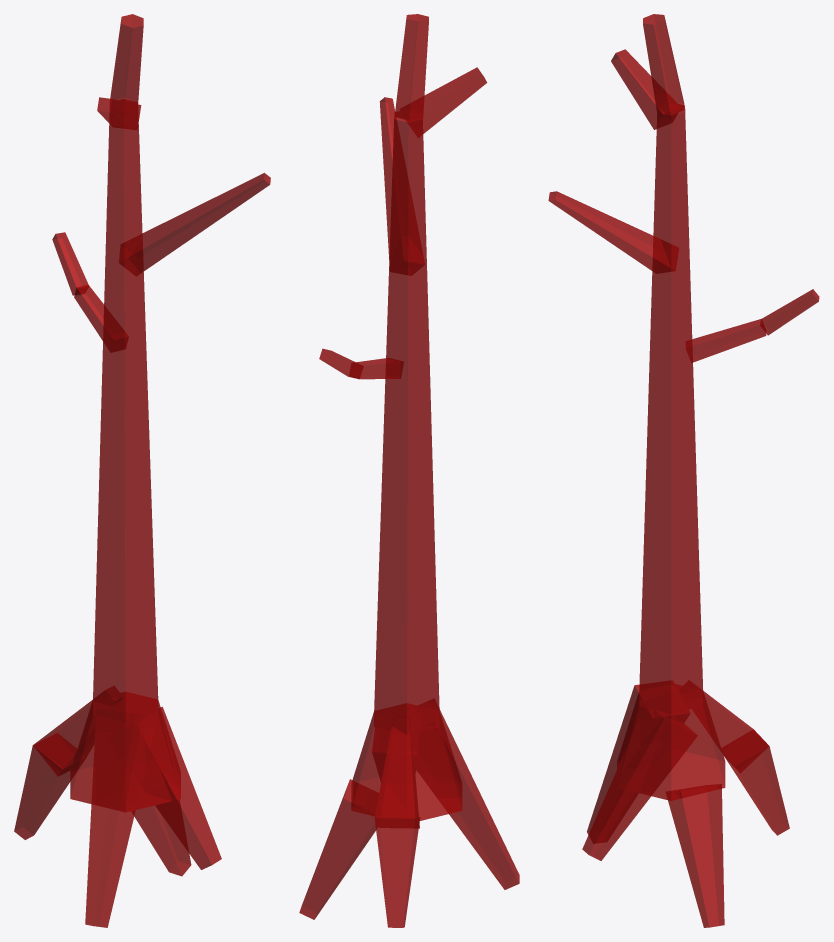
File: SM_Env_Tree_Birch_01_Collision.fbx
3 views of the same model, side by side, from view 1: azimuth 30°, elevation 25°; view 2: azimuth 150°, elevation 25°; view 3: azimuth 270°, elevation 25° (orthographic). The views are drawn at different scales.
Visible parts, largest first — view 1: SM_Env_Tree_Birch_01_Collision; view 2: SM_Env_Tree_Birch_01_Collision; view 3: SM_Env_Tree_Birch_01_Collision.
Boxes of the visible parts, x1=… form: SM_Env_Tree_Birch_01_Collision: x1=14, y1=14, x2=270, y2=927; SM_Env_Tree_Birch_01_Collision: x1=299, y1=14, x2=519, y2=927; SM_Env_Tree_Birch_01_Collision: x1=548, y1=14, x2=819, y2=927.
Bounding box in the file's own units: 110 × 578 × 162.
